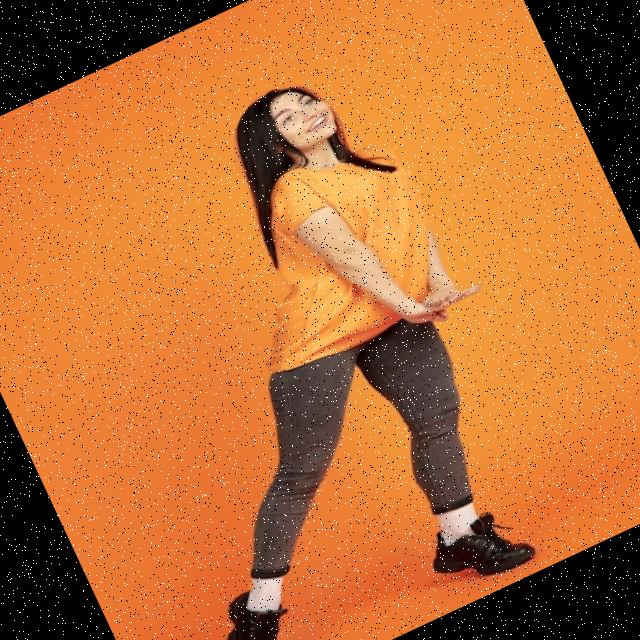Person: (21, 44, 596, 640)
